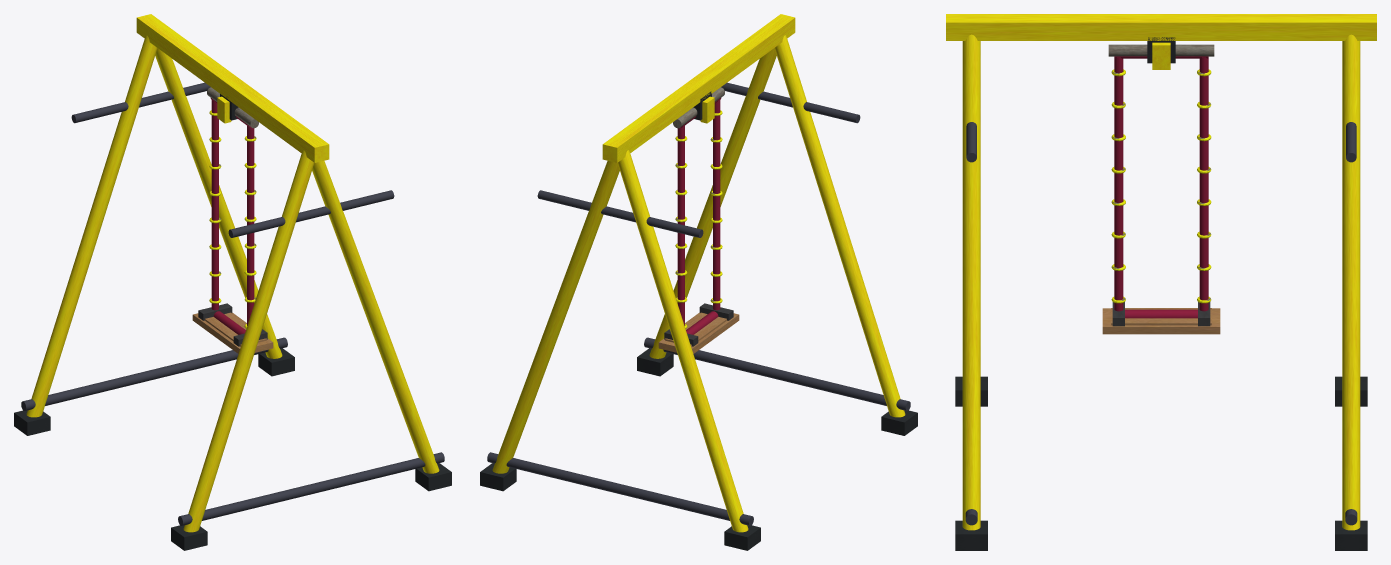
File: Playground_swing__0000.glb
3 views of the same model, side by side, from view 1: azimuth 30°, elevation 25°; view 2: azimuth 150°, elevation 25°; view 3: azimuth 270°, elevation 25° (orthographic). The views are drawn at different scales.
Parts seen in each view (by area): view 1: frame::end1_leg_front, frame::end0_leg_front, frame::top_rail, frame::end0_leg_rear, frame::end1_leg_rear, frame::end0_lower_brace, frame::end1_lower_brace, swing_0::chain_right_core, frame::end0_upper_brace, swing_0::chain_left_core, frame::end1_upper_brace, frame::end0_foot_front (+4 smaller); view 2: frame::end0_leg_front, frame::end1_leg_front, frame::top_rail, frame::end1_leg_rear, frame::end0_leg_rear, frame::end1_lower_brace, frame::end0_lower_brace, swing_0::chain_left_core, frame::end1_upper_brace, swing_0::chain_right_core, frame::end0_upper_brace, frame::end1_foot_front (+4 smaller); view 3: frame::top_rail, frame::end0_leg_rear, frame::end1_leg_rear, swing_0::chain_left_core, swing_0::chain_right_core, swing_0::belt_seat, swing_0::upper_hub, frame::end0_foot_rear, frame::end1_foot_rear, swing_0::belt_pad, swing_0::seat_spreader_bar, frame::swing_0_rear_clevis_cheek.
Boxes of the visible parts, x1,y1,x2,y2 form: frame::end1_leg_front: (26, 35, 157, 417); frame::end0_leg_front: (183, 150, 314, 532); frame::top_rail: (136, 14, 329, 162); frame::end0_leg_rear: (312, 161, 439, 473); frame::end1_leg_rear: (155, 48, 282, 358); frame::end0_lower_brace: (178, 452, 444, 525); frame::end1_lower_brace: (21, 337, 287, 410); swing_0::chain_right_core: (211, 100, 218, 310); frame::end0_upper_brace: (228, 190, 394, 237); swing_0::chain_left_core: (247, 125, 254, 325); frame::end1_upper_brace: (71, 82, 210, 123); frame::end0_foot_front: (171, 525, 207, 550); frame::end0_leg_front: (774, 35, 905, 417); frame::end1_leg_front: (617, 150, 748, 532); frame::top_rail: (602, 14, 795, 162); frame::end1_leg_rear: (492, 161, 619, 473); frame::end0_leg_rear: (649, 48, 776, 358); frame::end1_lower_brace: (487, 452, 753, 525); frame::end0_lower_brace: (644, 337, 910, 410); swing_0::chain_left_core: (713, 100, 720, 310); frame::end1_upper_brace: (537, 190, 703, 237); swing_0::chain_right_core: (677, 125, 684, 325); frame::end0_upper_brace: (721, 82, 860, 123); frame::end1_foot_front: (724, 525, 760, 550); frame::top_rail: (946, 14, 1376, 40); frame::end0_leg_rear: (962, 34, 980, 530); frame::end1_leg_rear: (1342, 34, 1360, 530); swing_0::chain_left_core: (1114, 57, 1123, 311); swing_0::chain_right_core: (1199, 57, 1208, 311); swing_0::belt_seat: (1102, 308, 1220, 334); swing_0::upper_hub: (1108, 44, 1214, 56); frame::end0_foot_rear: (955, 520, 987, 550); frame::end1_foot_rear: (1335, 520, 1367, 550); swing_0::belt_pad: (1111, 308, 1211, 325); swing_0::seat_spreader_bar: (1125, 309, 1197, 318); frame::swing_0_rear_clevis_cheek: (1152, 42, 1170, 69).
Bounding box in the file's own units: 1.85 × 2.47 × 2.13.
9 materials, 9 textured.
